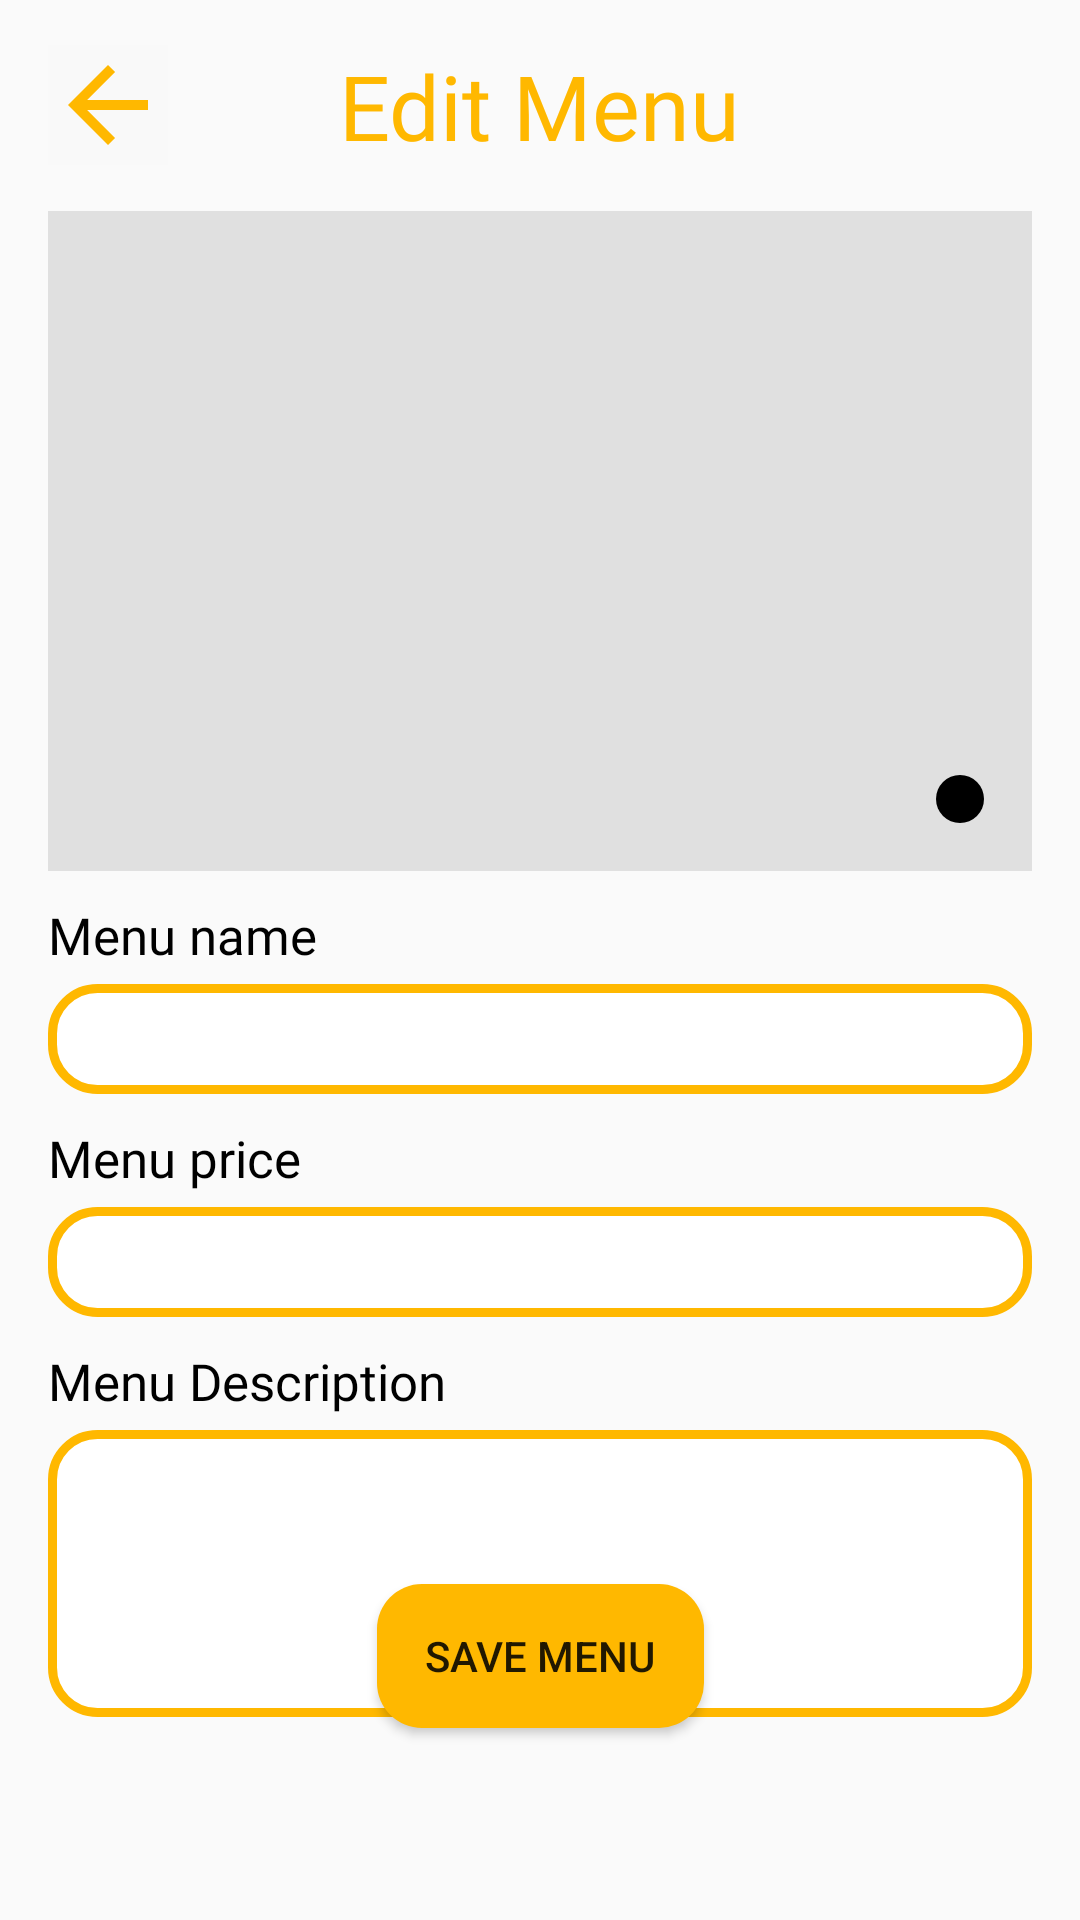

Screen size 1080px x 1920px. Icon name, then its box in pixels as (left=x1, top=y1, right=x2, bottom=y2):
back: (left=68, top=65, right=148, bottom=145)
